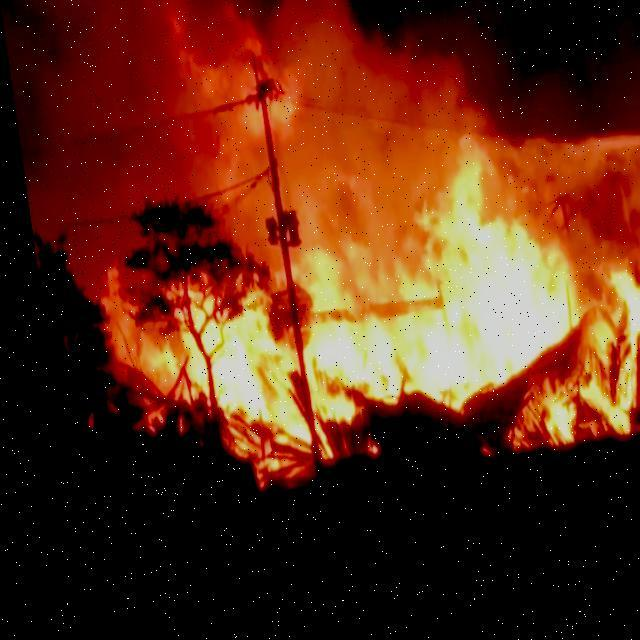Fire: (75, 144, 572, 452), (513, 276, 639, 457)
